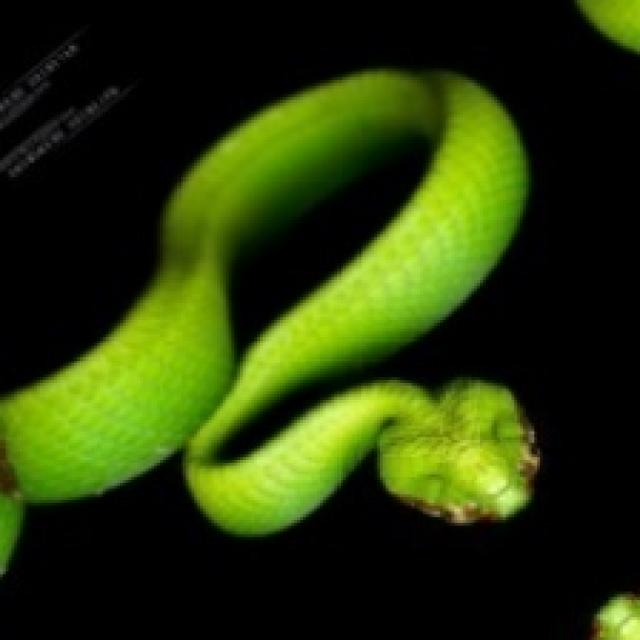north ph temple pitviper: (0, 71, 534, 569), (226, 134, 431, 366)
